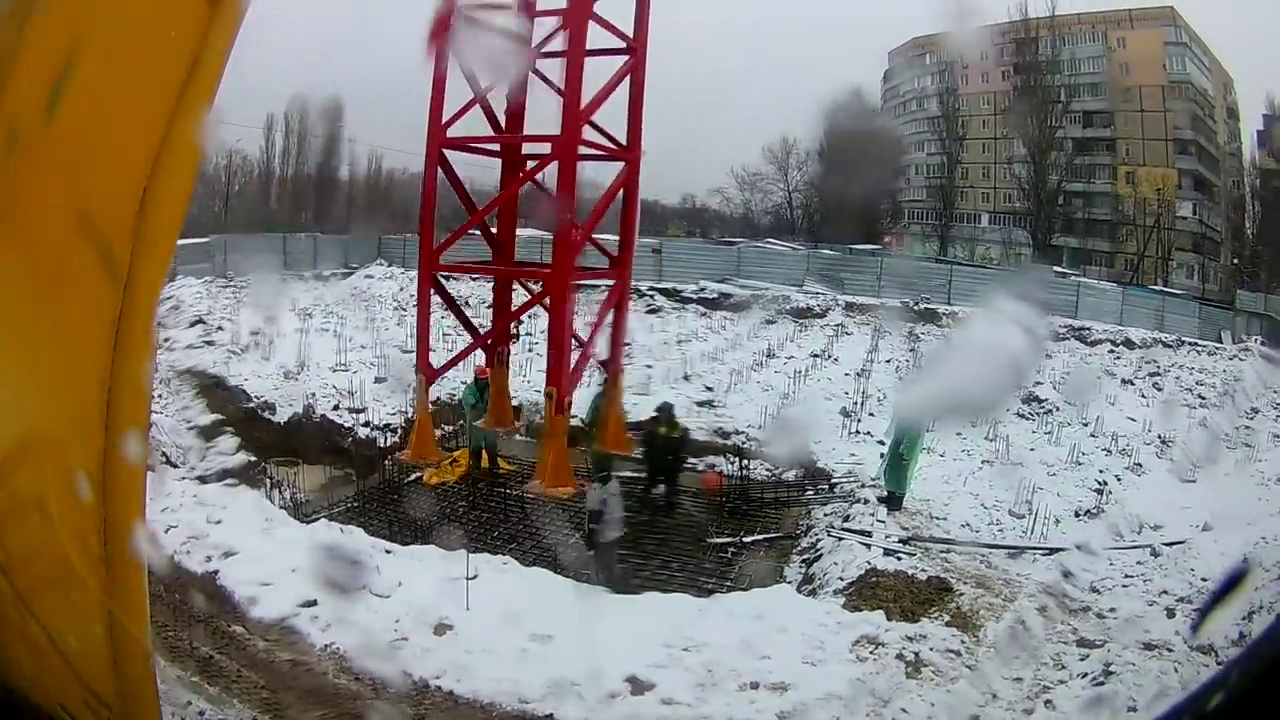helmet: (699, 470, 726, 493), (474, 365, 488, 380)
helmet-off: (652, 401, 677, 427)
helmet-on: (472, 365, 490, 391)
person: (638, 401, 687, 511), (461, 363, 504, 477), (881, 410, 925, 514)
